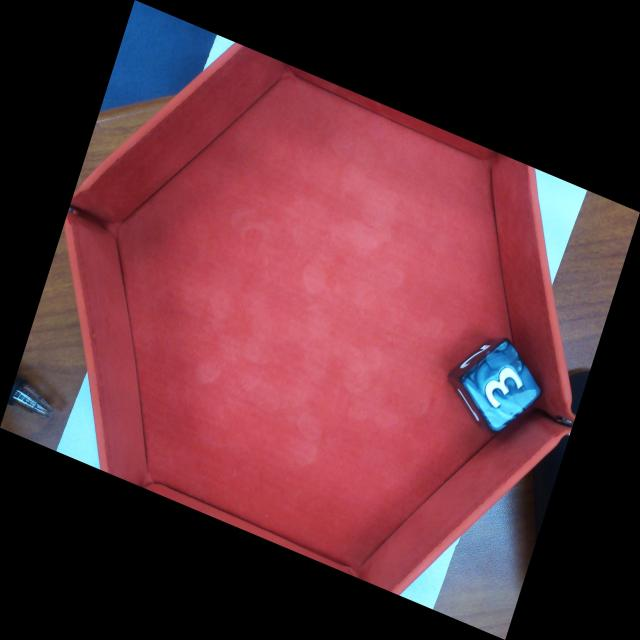dice: (467, 343, 540, 426)
